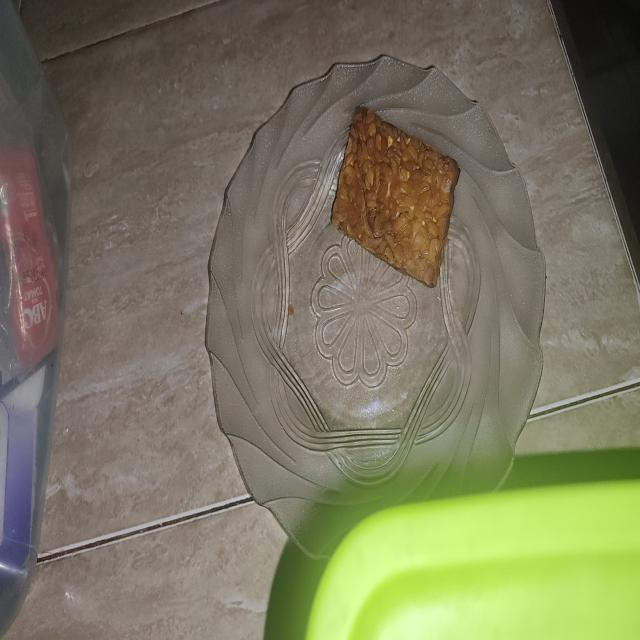tempe_goreng: (332, 109, 459, 287)
